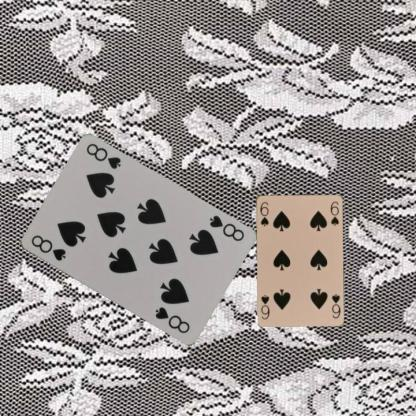6s: (257, 199, 270, 227), (329, 291, 341, 320)
8s: (28, 232, 67, 263), (206, 212, 246, 242)
